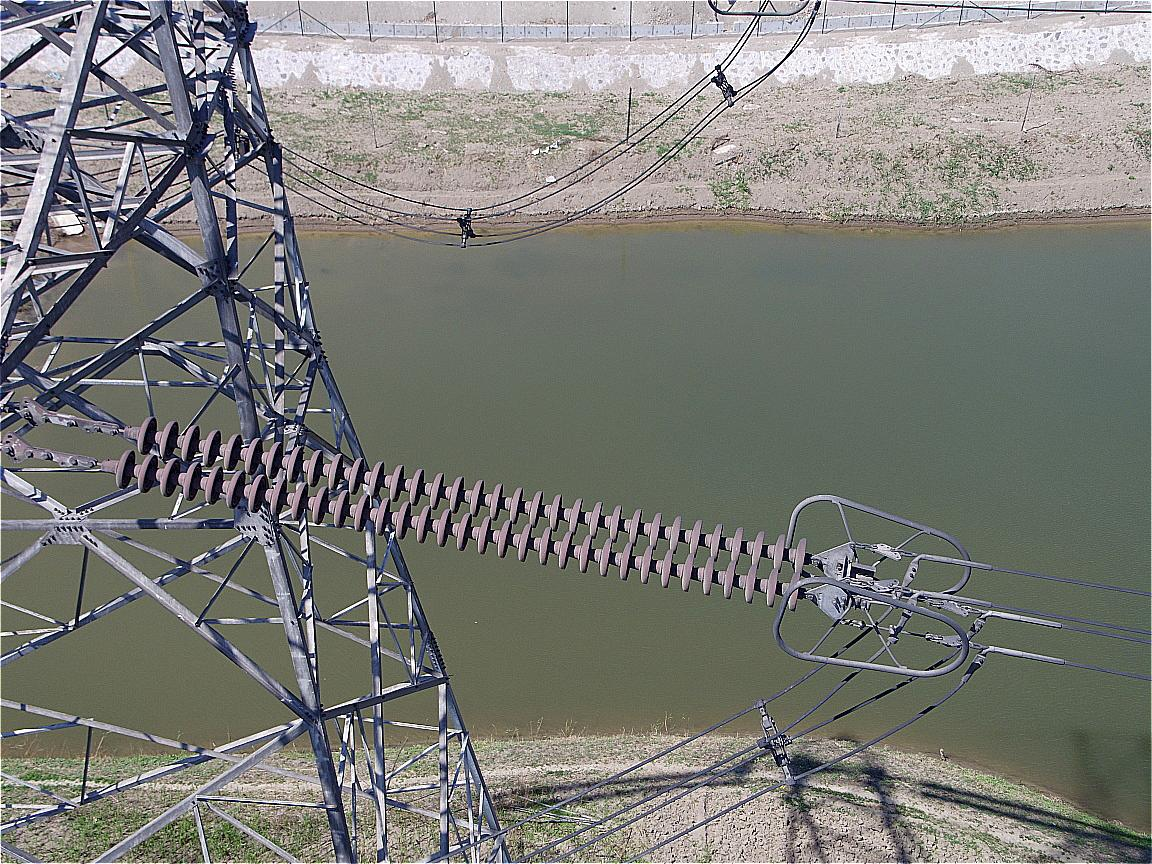insultor1: (103, 408, 841, 628)
